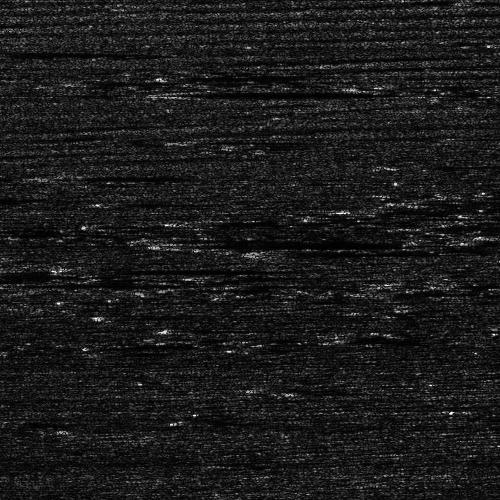object: (17, 262, 132, 273), (136, 236, 219, 249), (142, 217, 257, 226), (223, 246, 296, 255), (22, 173, 95, 180), (466, 232, 500, 243), (152, 137, 225, 142), (136, 89, 209, 94), (473, 192, 500, 205), (445, 408, 486, 413), (0, 47, 9, 54)
shadow: (178, 236, 377, 249), (75, 262, 304, 273), (200, 217, 402, 226), (260, 246, 426, 255), (173, 89, 376, 94), (0, 47, 132, 54), (59, 173, 173, 180), (189, 137, 309, 142), (0, 196, 47, 201), (465, 408, 500, 413)
